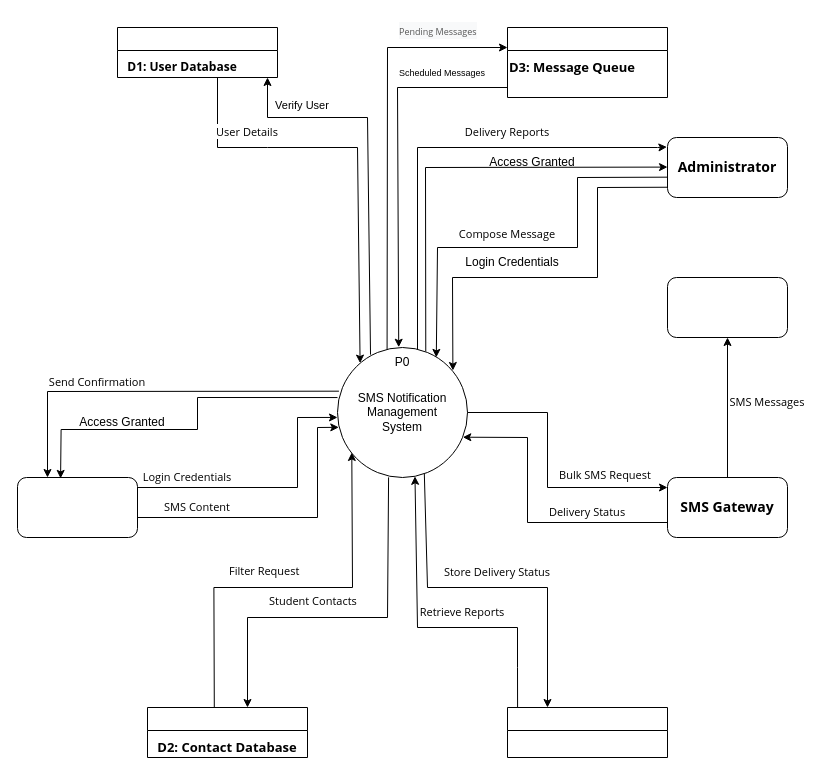
Some shapes in this 822 by 775 pixel diagram are drawn without their labels. The shapes that lost their labels are listed below. From the top down, each one's centre as x and y in pixels, then its label:
pixel 727 307: Students
pixel 77 507: Lecturer
pixel 587 732: D4: Delivery Reports
